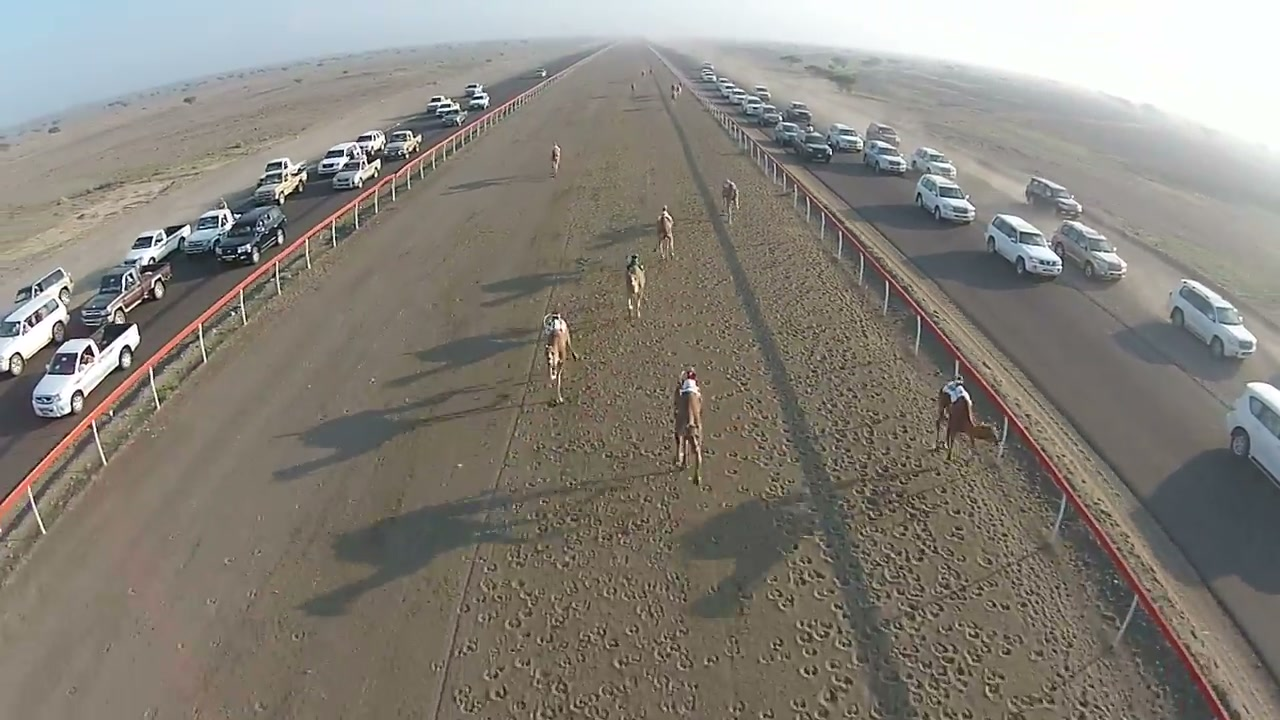animal_foot_print: (471, 411, 733, 715)
